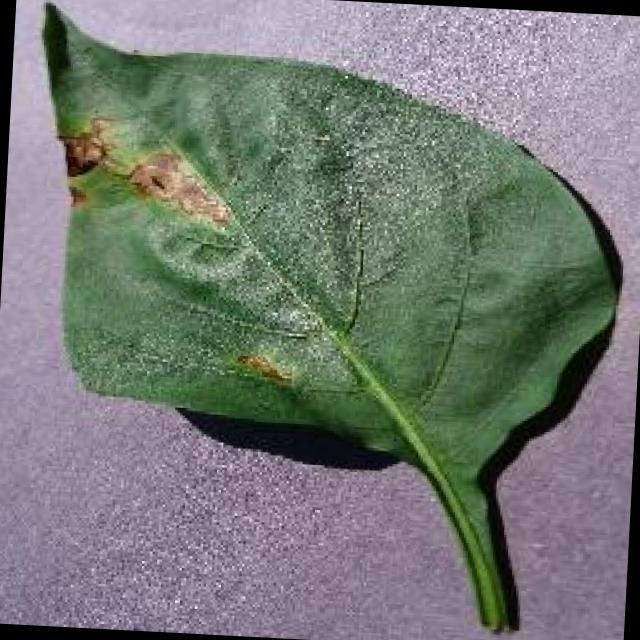Chilli_Bacterial_Spot: (4, 0, 638, 640), (44, 108, 350, 410), (52, 110, 240, 232), (119, 144, 236, 230), (54, 114, 115, 182), (229, 348, 296, 391), (124, 158, 170, 202)
